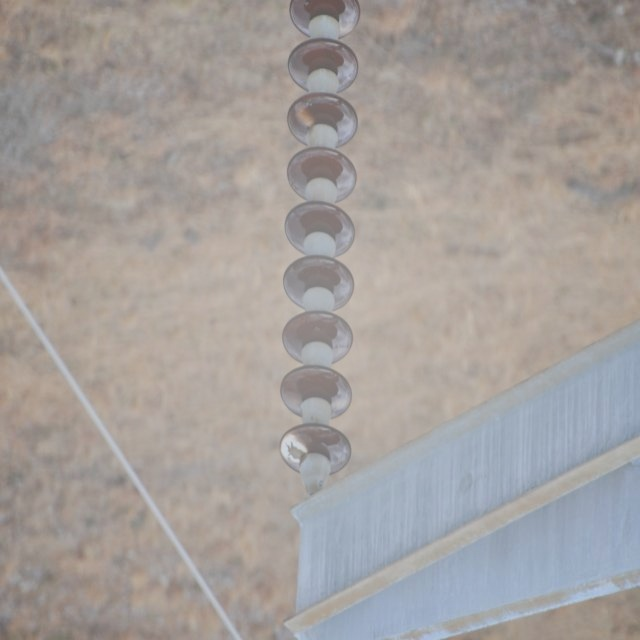insulator: (279, 0, 364, 473)
